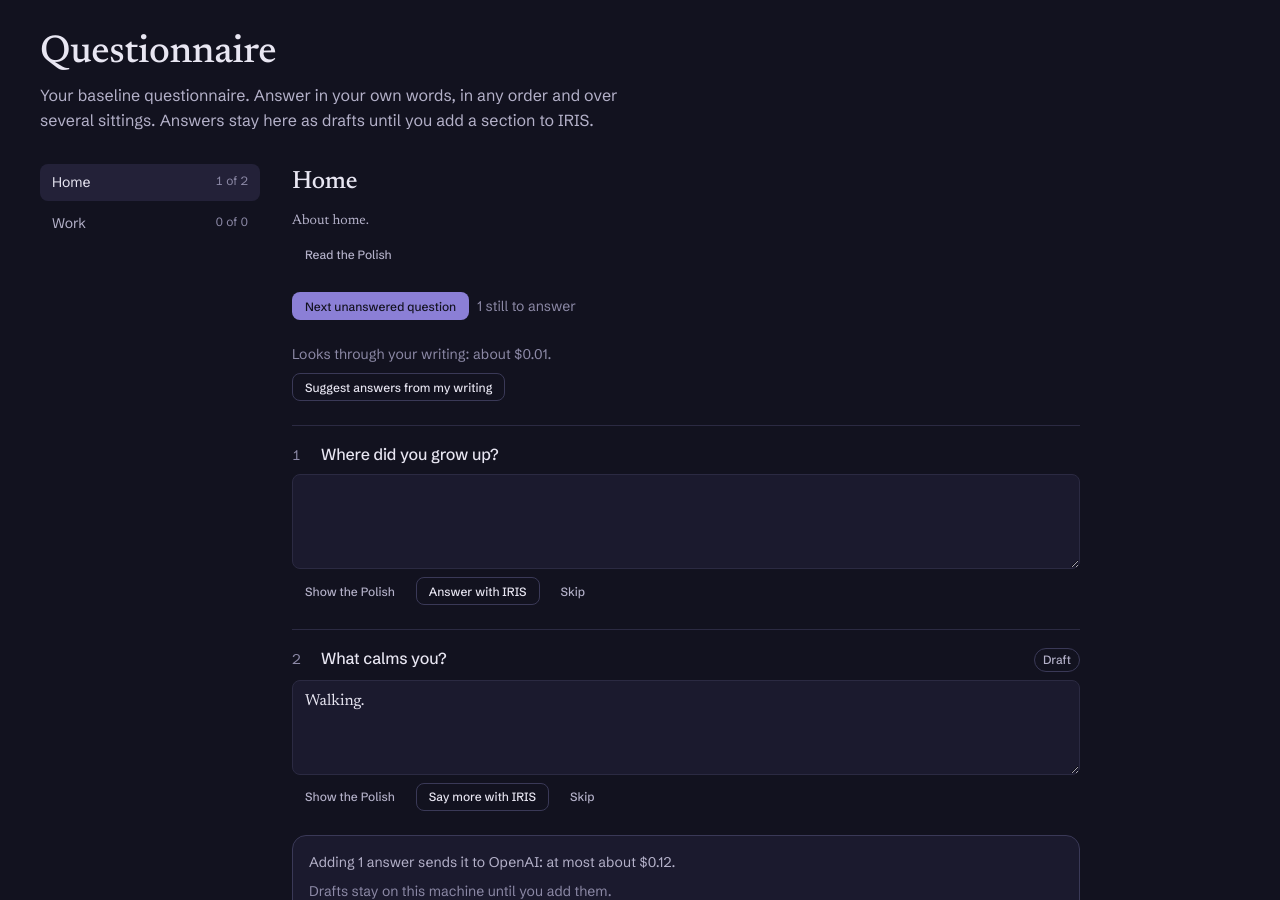
the questionnaire screen › lists sections with progress and shows the Polish on request
This screenshot has width=1280, height=900.
Expected: the text "Gdzie dorastałeś?" is not shown
Click the button "Show the Polish" below "Where did you grow up?" at (350, 591), box 292,577 -> 408,605
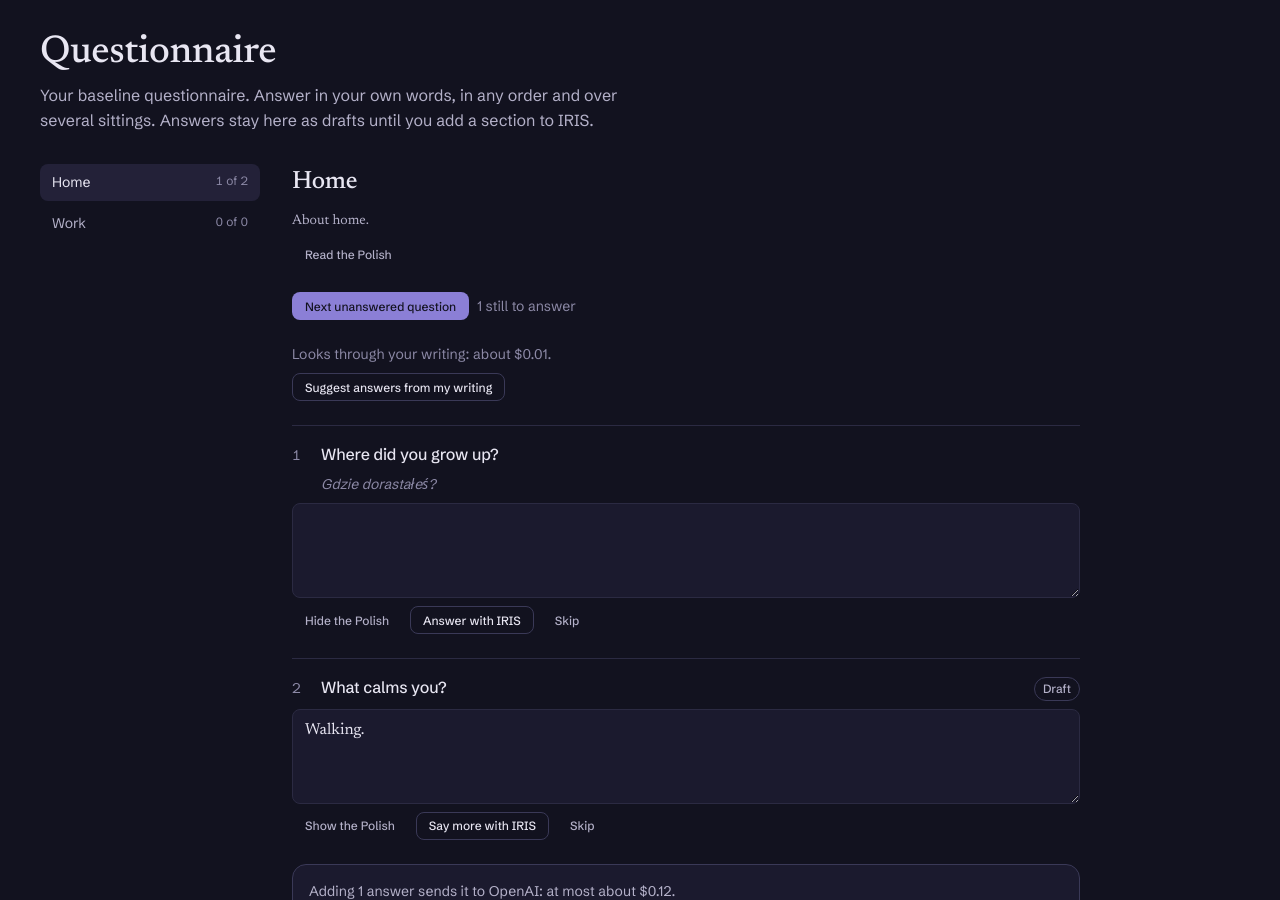
Expected: the text "Gdzie dorastałeś?" is shown, 321,475 -> 436,493
